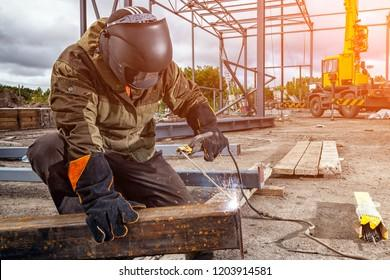gloves: (66, 152, 140, 243), (185, 104, 229, 162)
